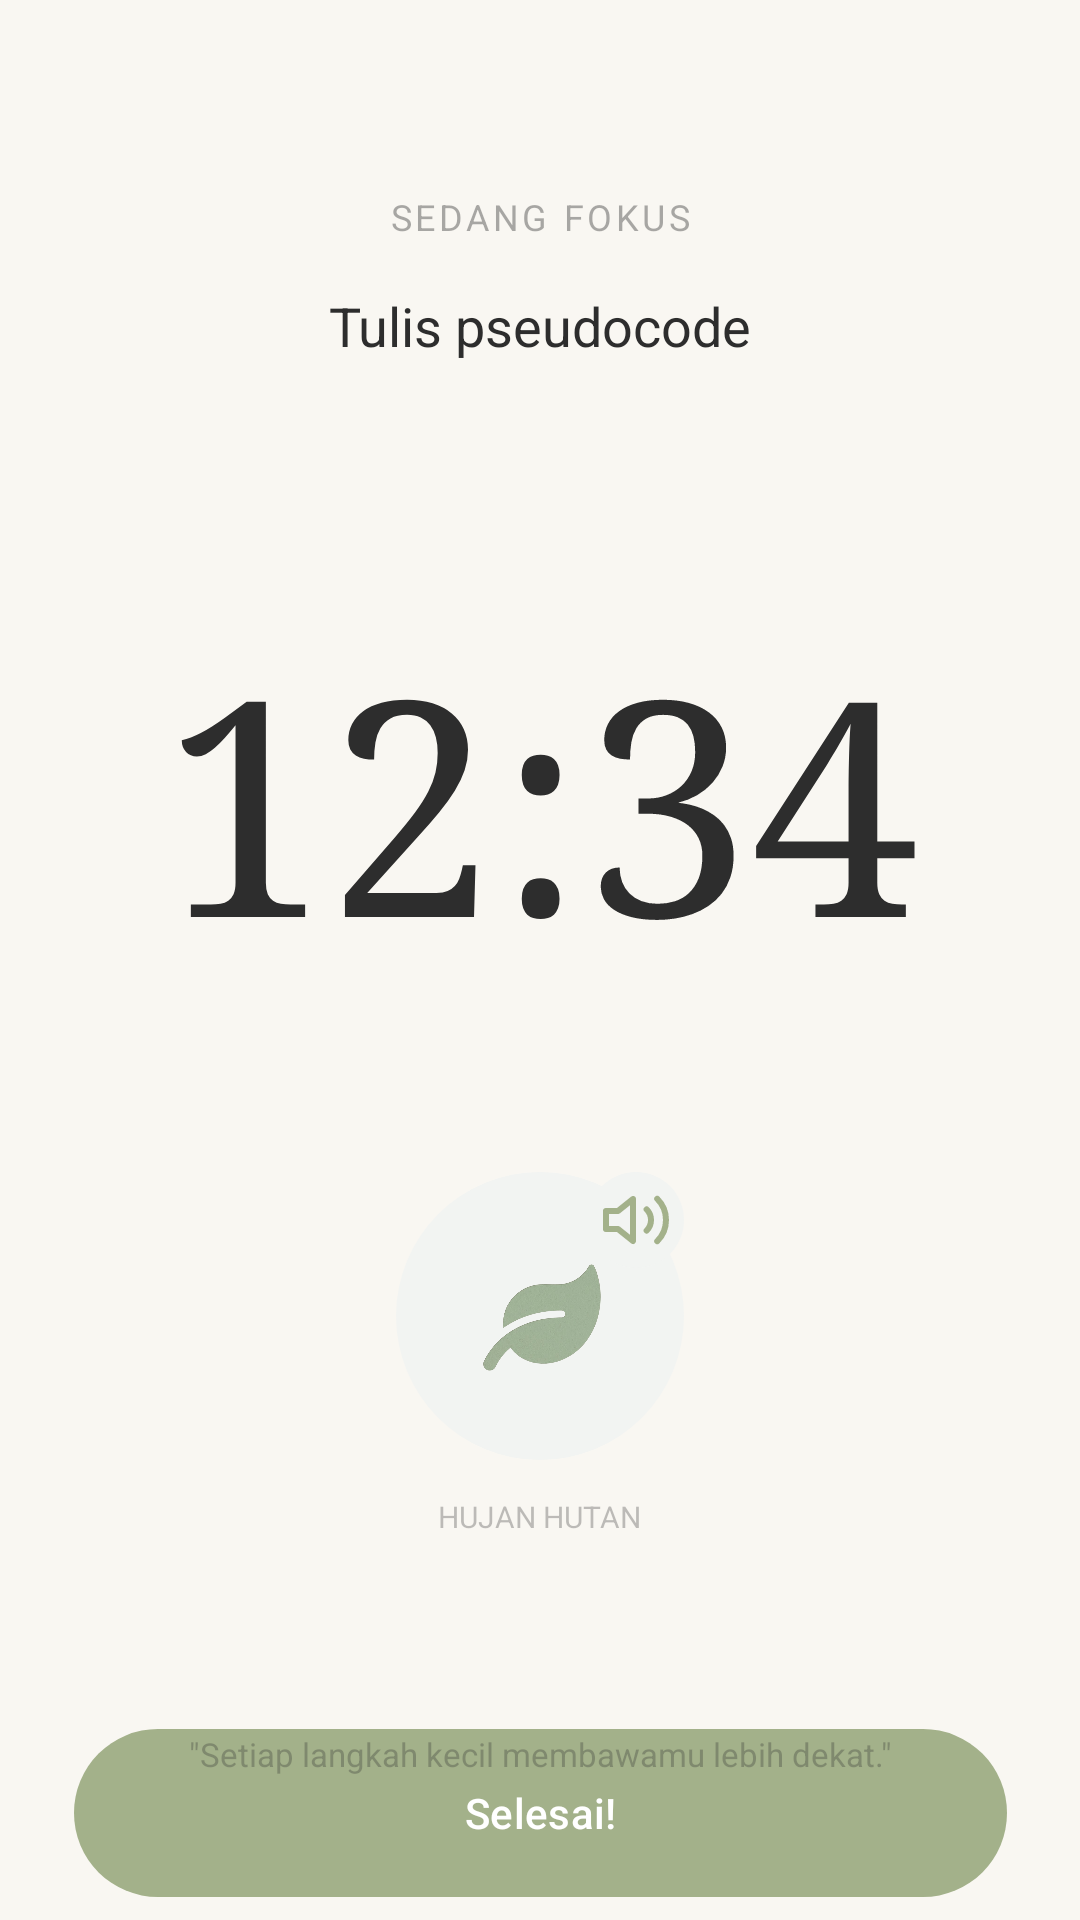

Icons on this 1080*1920 Android screen, each with the point to tap as point (x, y):
volume: point (636, 1220)
